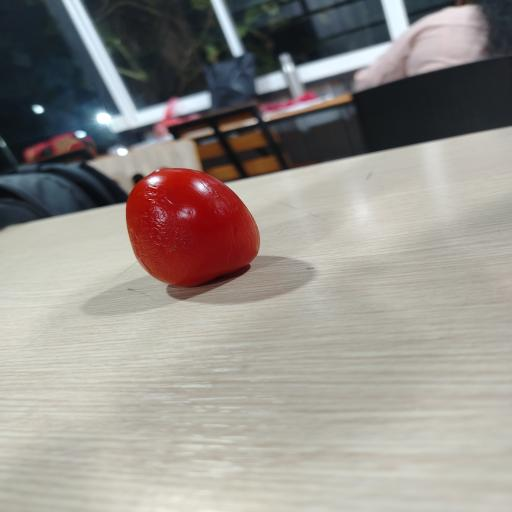spoiled: (126, 168, 260, 286)
